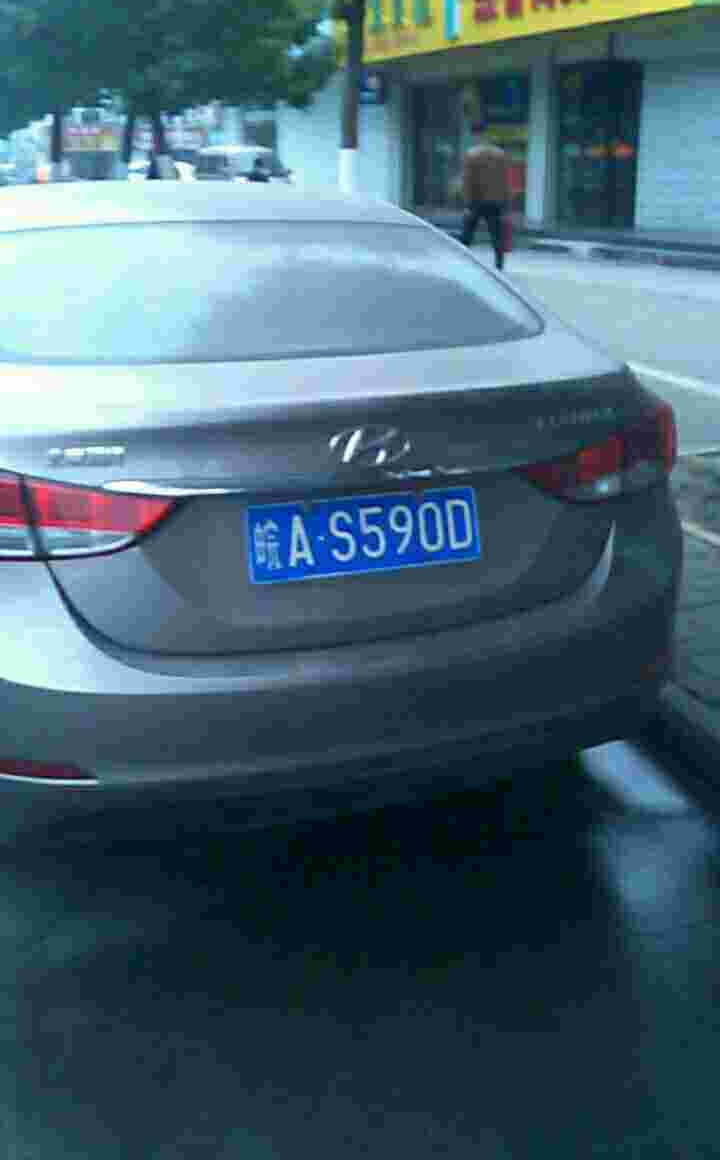license_plate: (244, 483, 484, 595)
